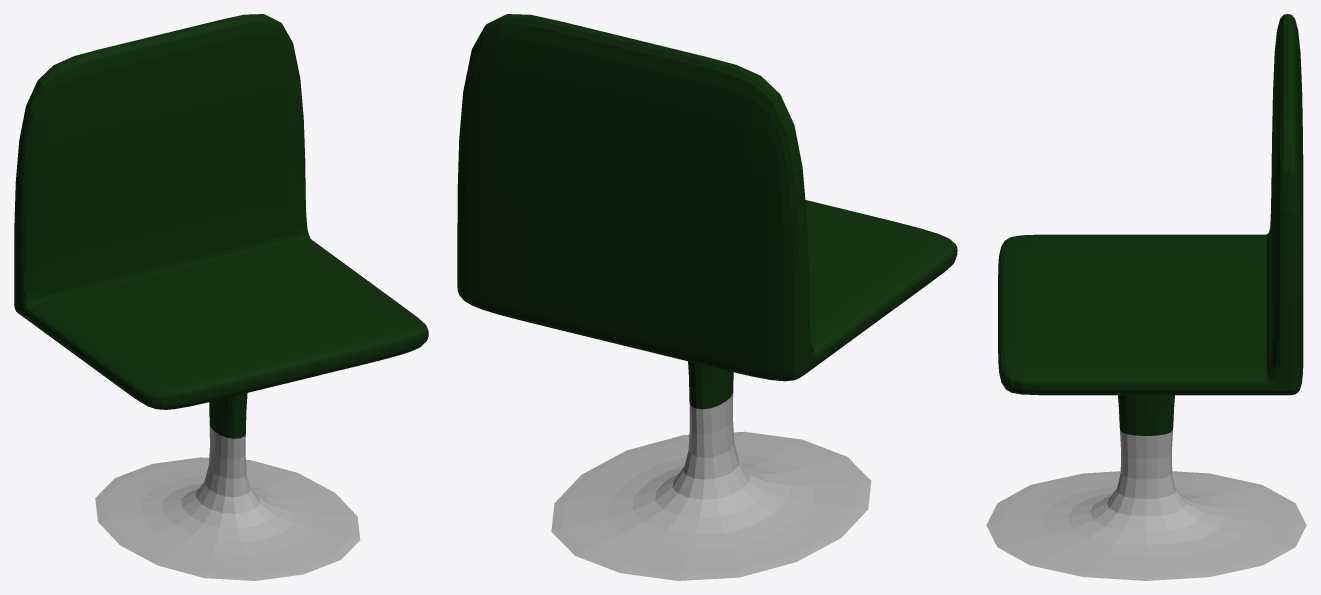
The model's file is Cadeira.fbx.
The picture shows the model from 3 angles, left to right: view 1: azimuth 30°, elevation 25°; view 2: azimuth 150°, elevation 25°; view 3: azimuth 270°, elevation 25°; orthographic projection. The views are drawn at different scales.
Visible parts, largest first — view 1: Cube.004; view 2: Cube.004; view 3: Cube.004.
Boxes of the visible parts, left/top/right/bottom form: Cube.004: left=14, top=14, right=428, bottom=580; Cube.004: left=457, top=14, right=957, bottom=580; Cube.004: left=986, top=14, right=1306, bottom=580.
Size of the model in its own units: 361 by 526 by 329.
